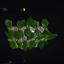leaf: (46, 32, 58, 40), (40, 19, 49, 29), (30, 19, 40, 28), (44, 29, 54, 38), (28, 40, 37, 50), (4, 18, 12, 28), (16, 20, 25, 28), (26, 16, 32, 28), (4, 31, 12, 40), (7, 29, 14, 37), (17, 30, 24, 38), (14, 31, 20, 40), (23, 41, 28, 51), (8, 42, 16, 48), (25, 28, 31, 36), (36, 29, 42, 37), (39, 40, 45, 48), (28, 33, 34, 40), (17, 40, 22, 47), (9, 40, 14, 45), (18, 28, 23, 32), (44, 40, 49, 44), (36, 38, 41, 40)
